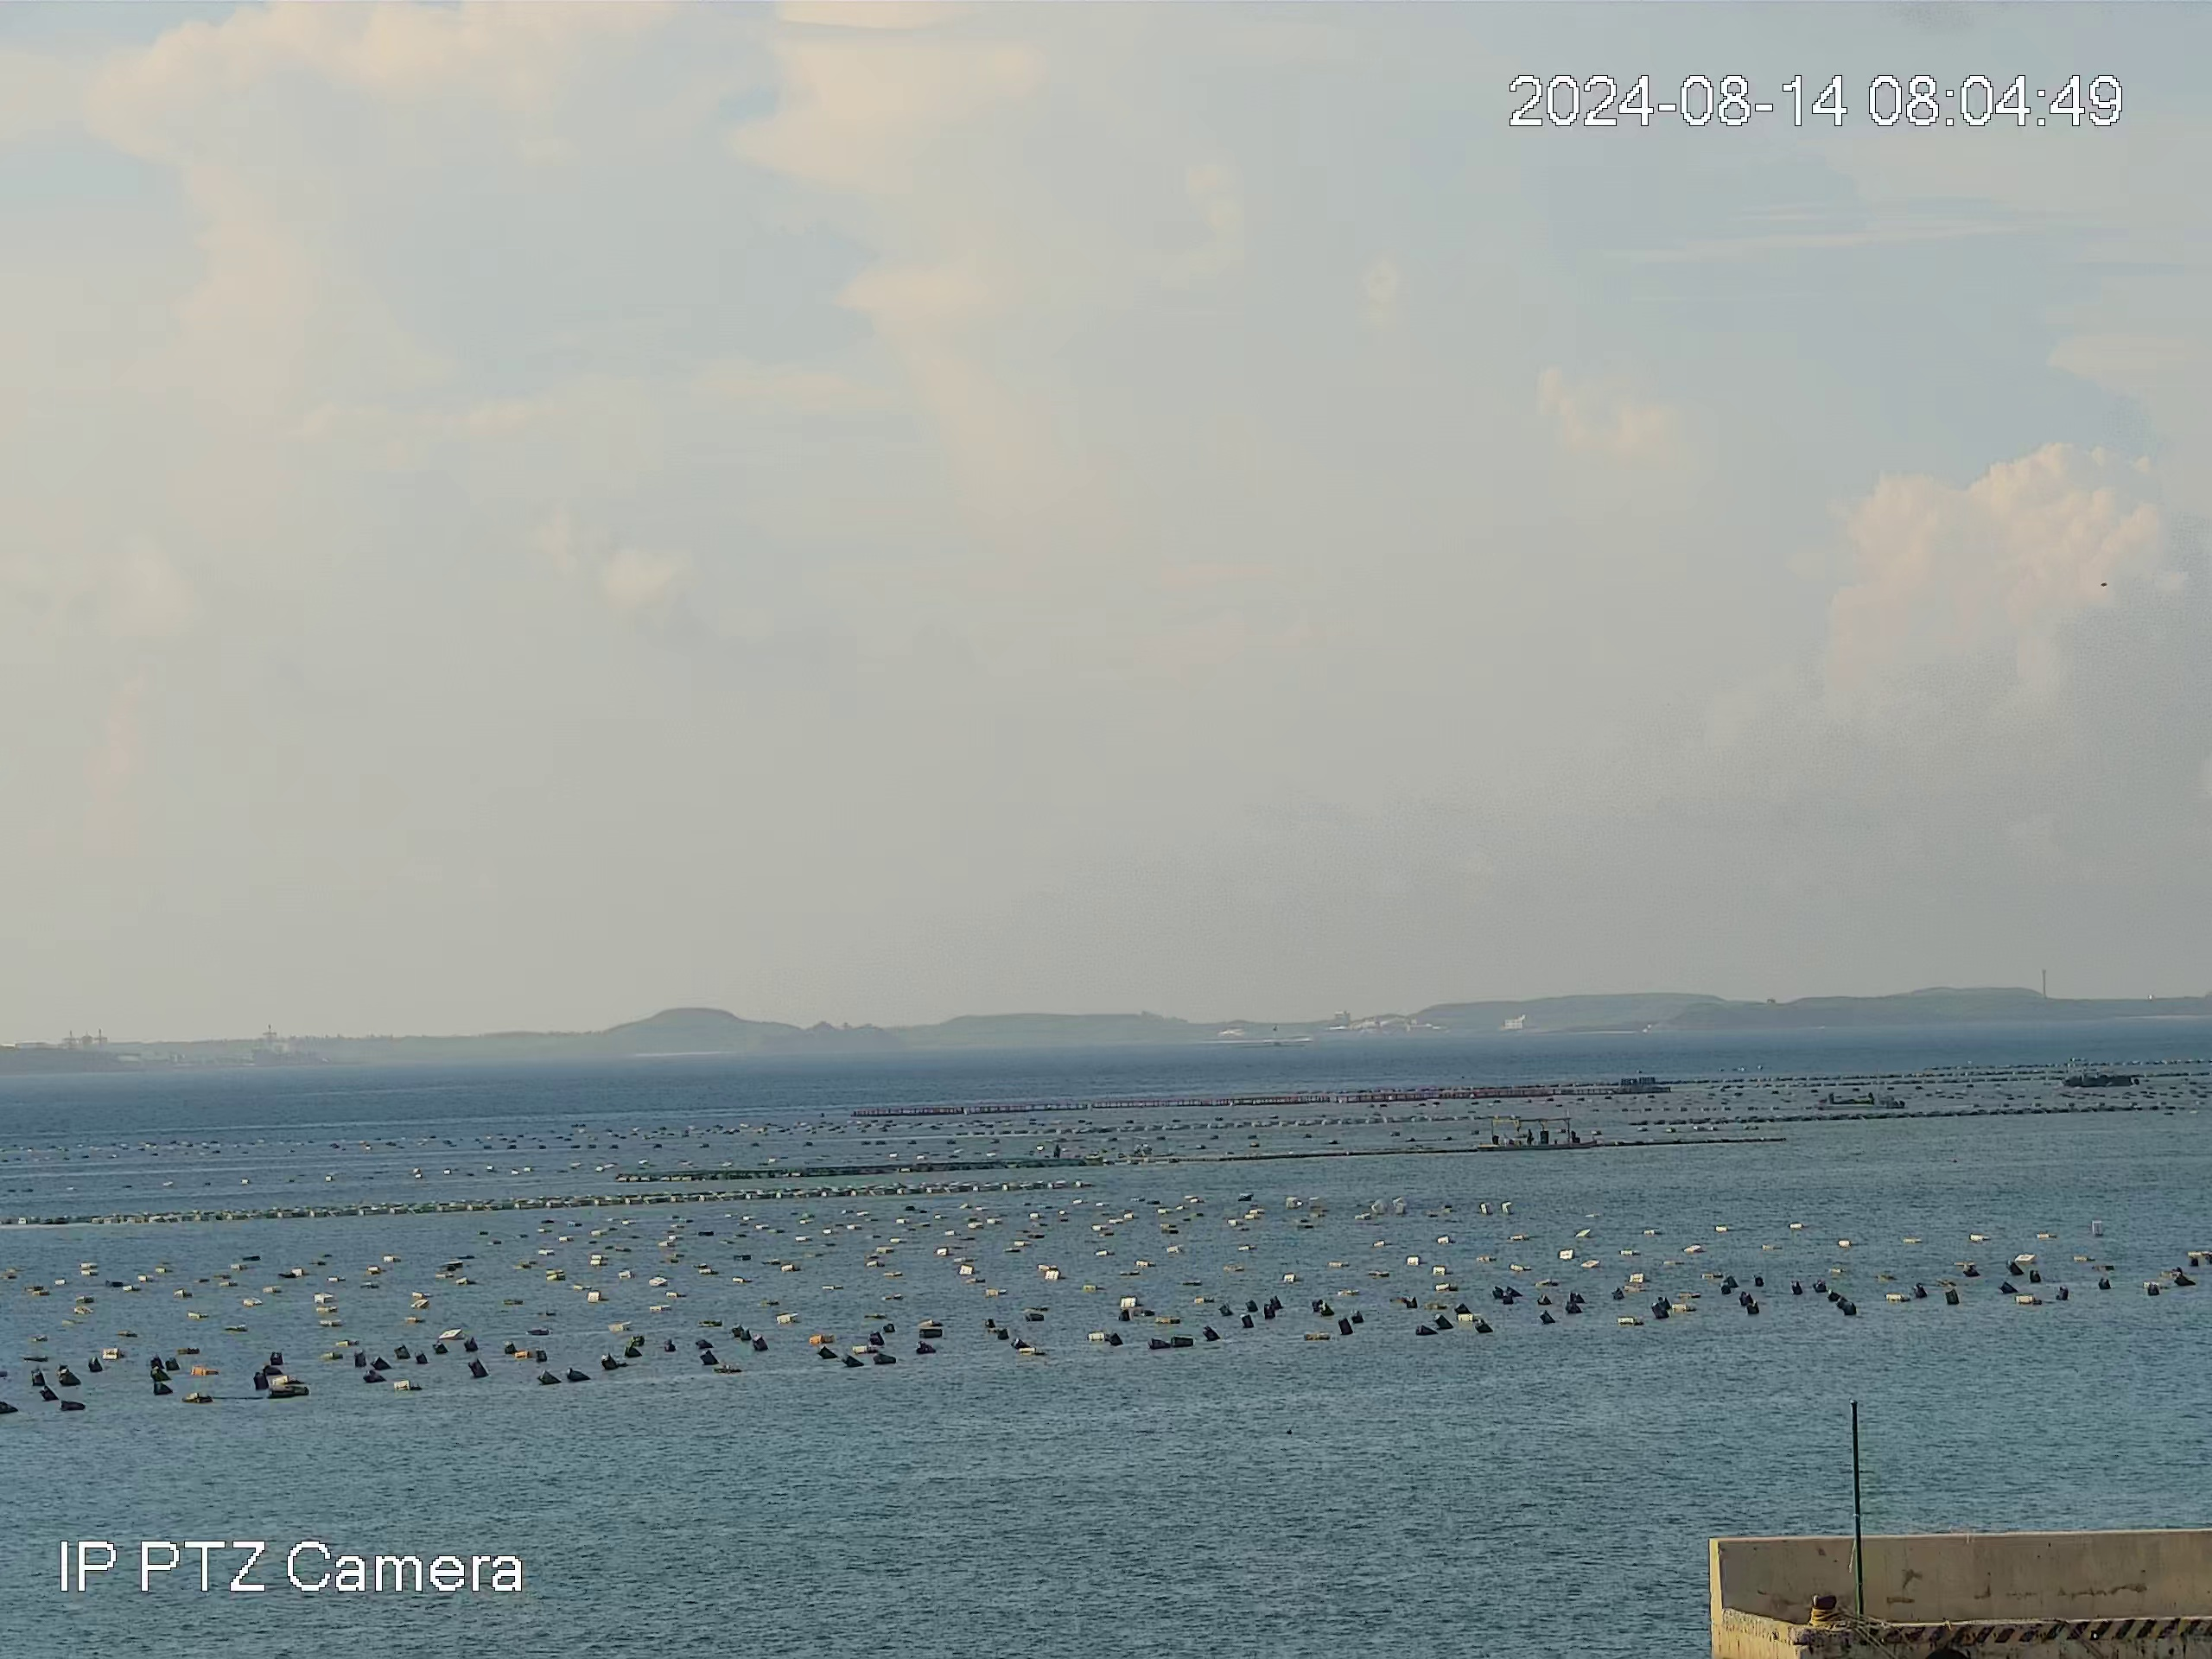boat: (1472, 1112, 1595, 1147), (1822, 1087, 1912, 1112), (2064, 1072, 2148, 1093)
